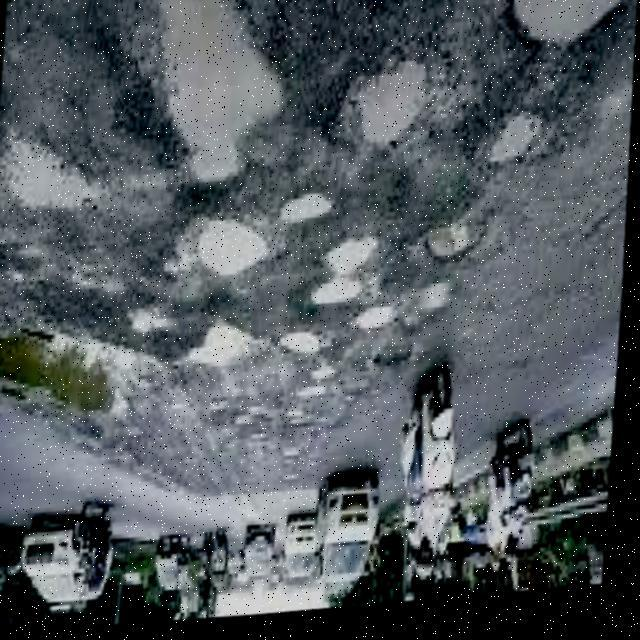pothole: (131, 0, 297, 207), (0, 309, 174, 432), (0, 110, 107, 234), (340, 49, 440, 168), (496, 0, 640, 73), (194, 215, 277, 301), (317, 225, 385, 314), (184, 314, 264, 380), (486, 111, 547, 183), (424, 215, 491, 277), (282, 181, 333, 241), (276, 327, 330, 372), (356, 308, 405, 348), (300, 366, 336, 414)
